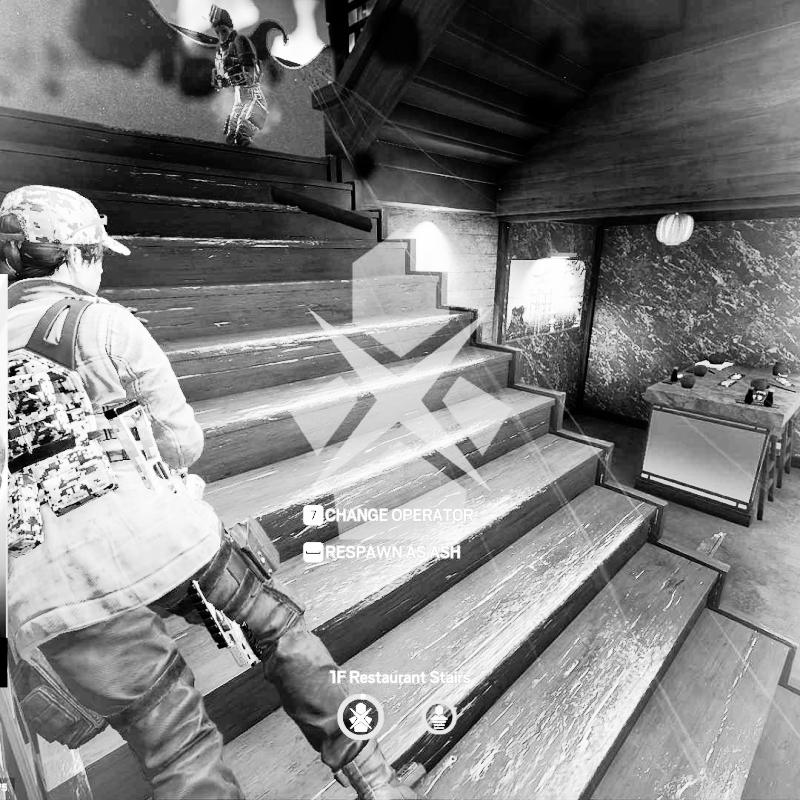Character: (0, 185, 432, 800), (202, 2, 271, 152)
Head: (0, 186, 130, 298), (208, 3, 234, 40)
